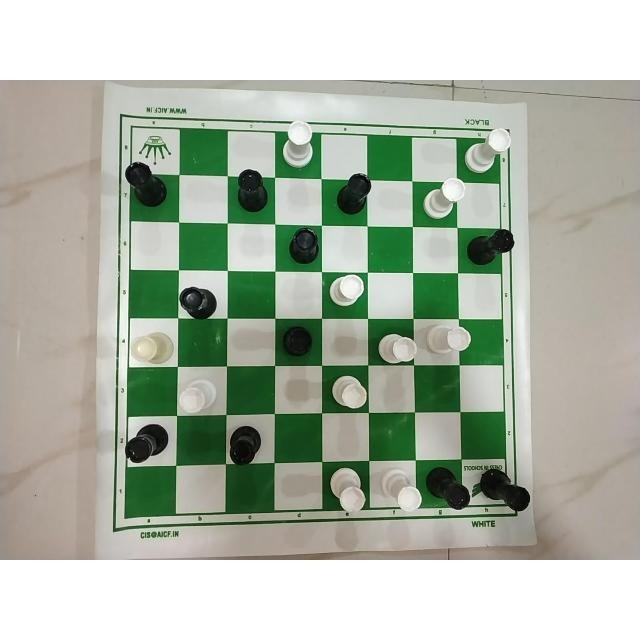black-rook: (477, 464, 530, 516), (117, 159, 167, 210), (423, 461, 473, 512), (466, 224, 516, 271), (123, 420, 171, 468), (176, 276, 220, 321), (334, 171, 373, 218), (233, 165, 269, 215), (284, 224, 322, 270), (227, 423, 265, 469), (279, 323, 316, 361)
white-rook: (462, 126, 513, 178), (420, 175, 466, 223), (378, 465, 422, 514), (177, 374, 225, 415), (279, 121, 318, 171), (326, 465, 366, 512), (127, 327, 174, 366), (424, 322, 474, 358), (373, 325, 417, 364), (327, 271, 365, 314), (328, 372, 368, 412)
